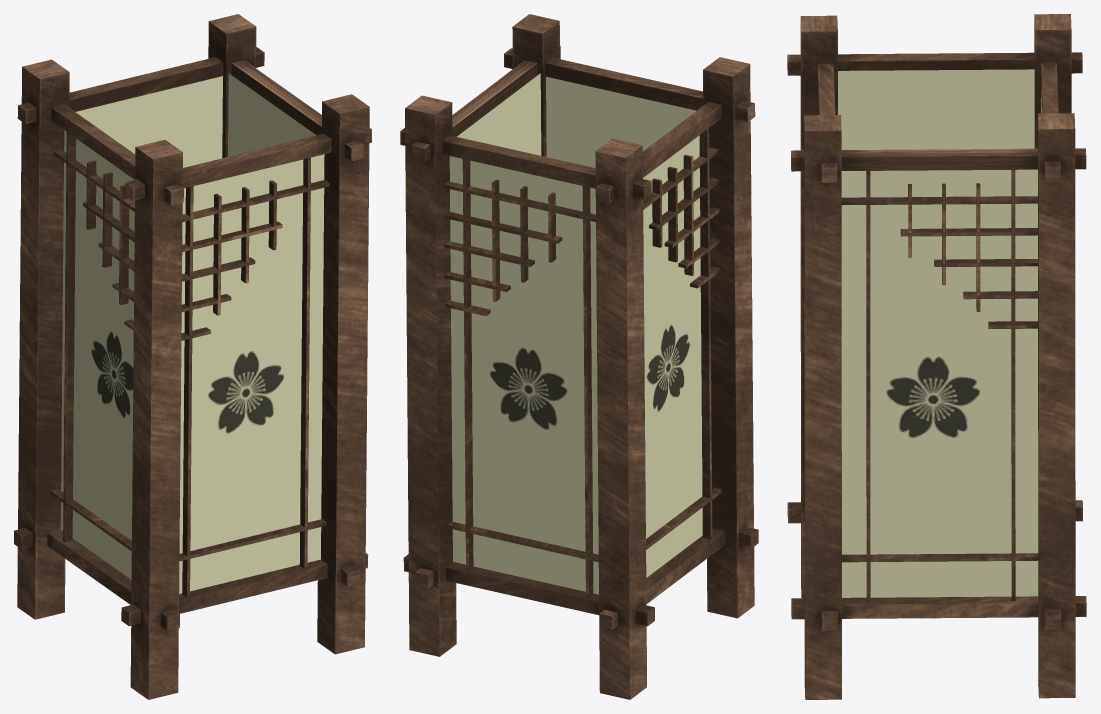
Rendered from light-floor-andon.glb.
3 views of the same model, side by side, from view 1: azimuth 30°, elevation 25°; view 2: azimuth 150°, elevation 25°; view 3: azimuth 270°, elevation 25° (orthographic). The views are drawn at different scales.
Visible parts, largest first — view 1: Plane007, Box006, Box007, Box004, Plane006, Plane005, Box082, Plane004, Box008, Box009, Box013, Box071 (+15 smaller); view 2: Plane005, Box004, Box005, Box006, Plane006, Plane007, Box009, Box072, Box008, Box012, Plane004, Box060 (+17 smaller); view 3: Plane004, Box005, Box007, Plane006, Box006, Box011, Box015, Box010, Box004, Box026, Box016, Box025 (+8 smaller).
Part boxes in pixels (box(x1,y1,x2,y2)): Plane007: box(179, 154, 324, 593); Box006: box(130, 140, 182, 699); Box007: box(317, 94, 369, 654); Box004: box(17, 59, 69, 619); Plane006: box(60, 130, 134, 579); Plane005: box(75, 76, 222, 167); Box082: box(63, 132, 76, 541); Plane004: box(228, 73, 316, 156); Box008: box(17, 47, 264, 123); Box009: box(125, 128, 371, 200); Box013: box(121, 553, 368, 626); Box071: box(299, 157, 310, 568); Plane005: box(449, 156, 598, 594); Box004: box(595, 138, 646, 699); Box005: box(405, 95, 456, 656); Box006: box(703, 57, 754, 618); Plane006: box(643, 135, 702, 577); Plane007: box(546, 76, 696, 167); Box009: box(504, 48, 755, 122); Box072: box(699, 128, 712, 539); Box008: box(400, 128, 651, 199); Box012: box(403, 554, 654, 626); Plane004: box(457, 73, 541, 155); Box060: box(582, 186, 593, 597); Plane004: box(841, 169, 1038, 597); Box005: box(1038, 113, 1075, 698); Box007: box(804, 115, 841, 699); Plane006: box(838, 69, 1034, 149); Box006: box(800, 15, 837, 598); Box011: box(791, 148, 1086, 171); Box015: box(791, 596, 1086, 619); Box010: box(787, 52, 1082, 75); Box004: box(1034, 14, 1071, 148); Box026: box(866, 171, 870, 601); Box016: box(1011, 170, 1015, 600); Box025: box(842, 553, 1038, 562).
Bounding box in the file's own units: 0.2876 × 0.6025 × 0.2847.
2 materials, 2 textured.
